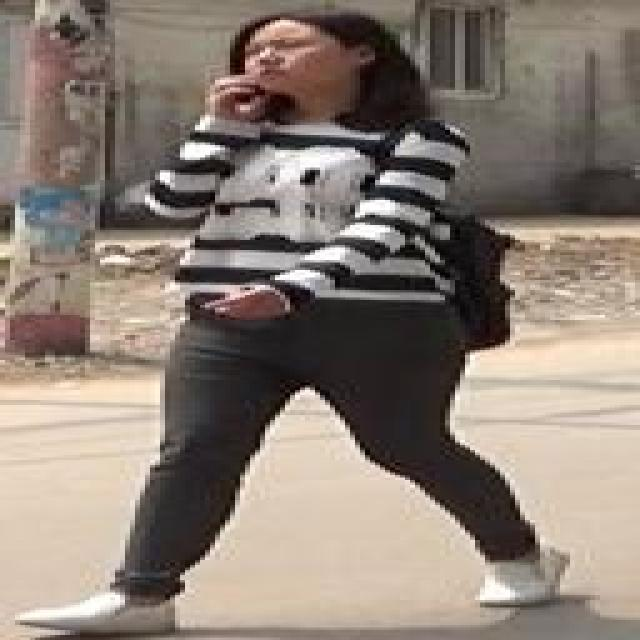adult: (60, 7, 545, 640)
